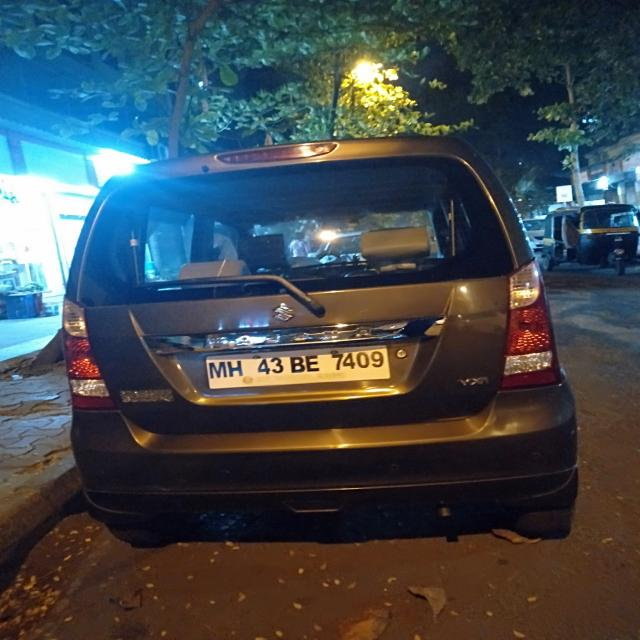Number-Plate: (208, 350, 389, 386)
